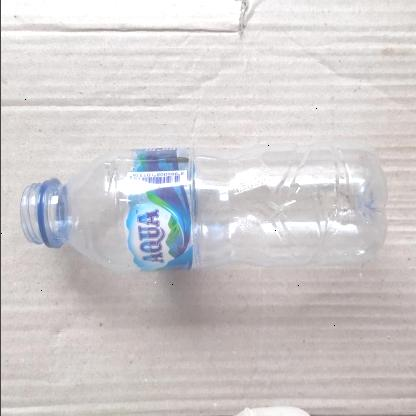Plastic Bottle: (2, 137, 408, 294)
